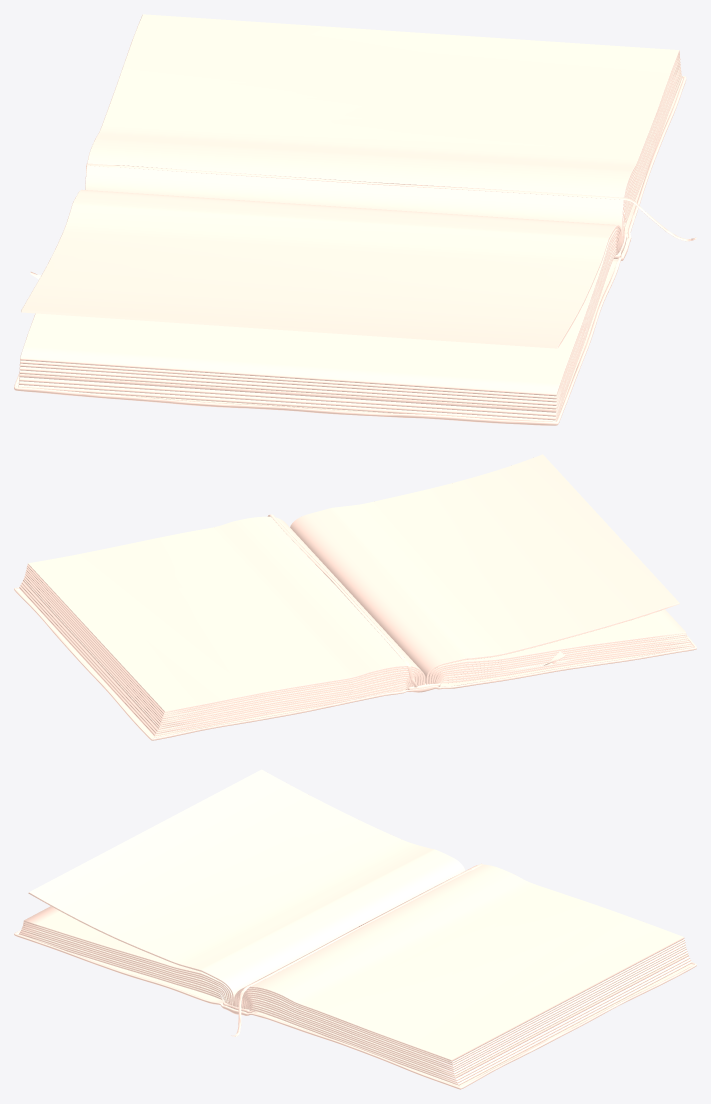
File: book.fbx
The picture shows the model from 3 angles, top to bottom: view 1: azimuth 30°, elevation 25°; view 2: azimuth 150°, elevation 25°; view 3: azimuth 270°, elevation 25°; orthographic projection. The views are drawn at different scales.
Visible parts, largest first — view 1: LODEX3D_VOL1_BOOKS_L3DV1B001_; view 2: LODEX3D_VOL1_BOOKS_L3DV1B001_; view 3: LODEX3D_VOL1_BOOKS_L3DV1B001_.
Boxes of the visible parts, x1,y1,x2,y2 form: LODEX3D_VOL1_BOOKS_L3DV1B001_: (14, 14, 696, 425); LODEX3D_VOL1_BOOKS_L3DV1B001_: (14, 454, 696, 740); LODEX3D_VOL1_BOOKS_L3DV1B001_: (14, 769, 696, 1089).
Size of the model in its own units: 209 by 18.29 by 219.
